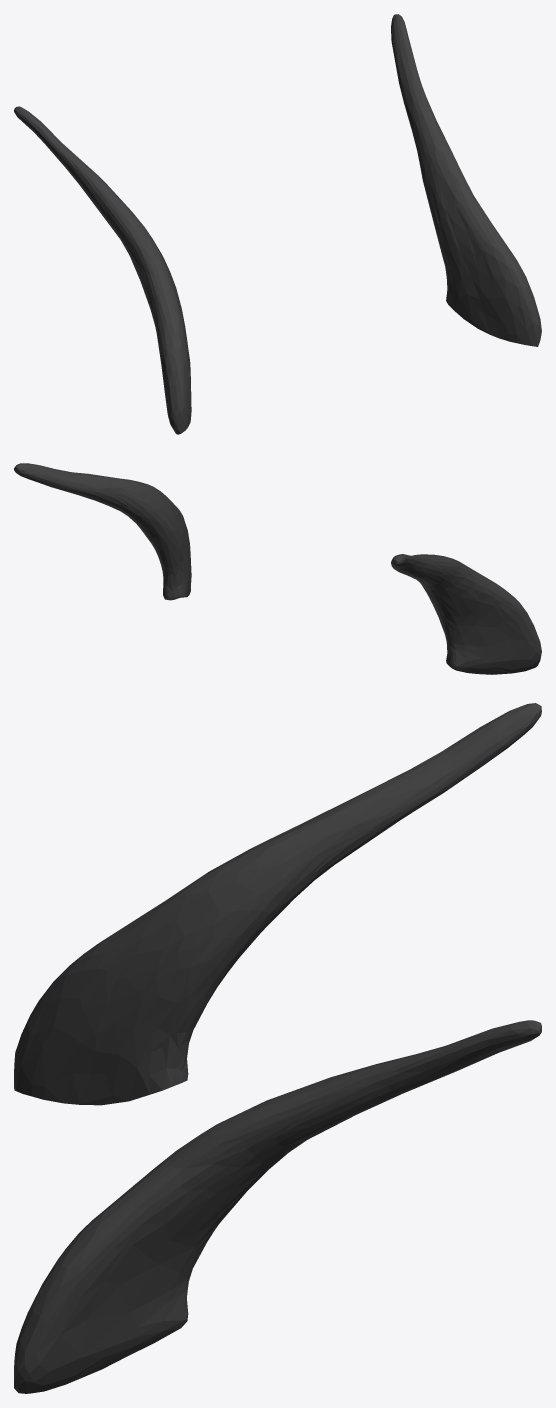
Rendered from m_iliacus.glb.
3 views of the same model, one above another, from view 1: azimuth 30°, elevation 25°; view 2: azimuth 150°, elevation 25°; view 3: azimuth 270°, elevation 25° (orthographic). The views are drawn at different scales.
Parts seen in each view (by area): view 1: m_iliacus; view 2: m_iliacus; view 3: m_iliacus.
Part boxes in pixels (box(x1,y1,x2,y2)): m_iliacus: box(14, 14, 541, 434); m_iliacus: box(14, 463, 541, 674); m_iliacus: box(14, 703, 541, 1393).
Bounding box in the file's own units: 0.00341 × 0.00187 × 0.00235.
Materials: 1 (1 with a texture image).
